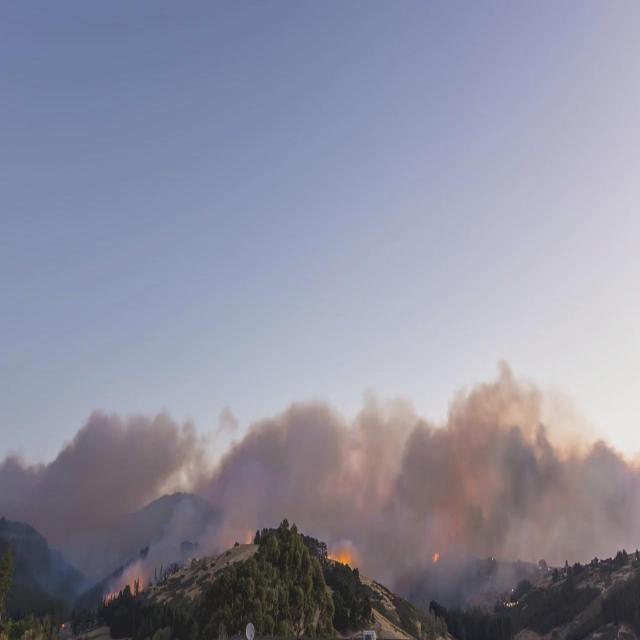Fire: (102, 562, 146, 608), (217, 524, 256, 550), (324, 539, 354, 569), (432, 551, 439, 565)
Smoke: (446, 361, 640, 640), (0, 404, 212, 561), (358, 386, 429, 615), (258, 402, 322, 544), (2, 568, 102, 634), (215, 404, 257, 520), (326, 396, 358, 540), (431, 379, 444, 544)
